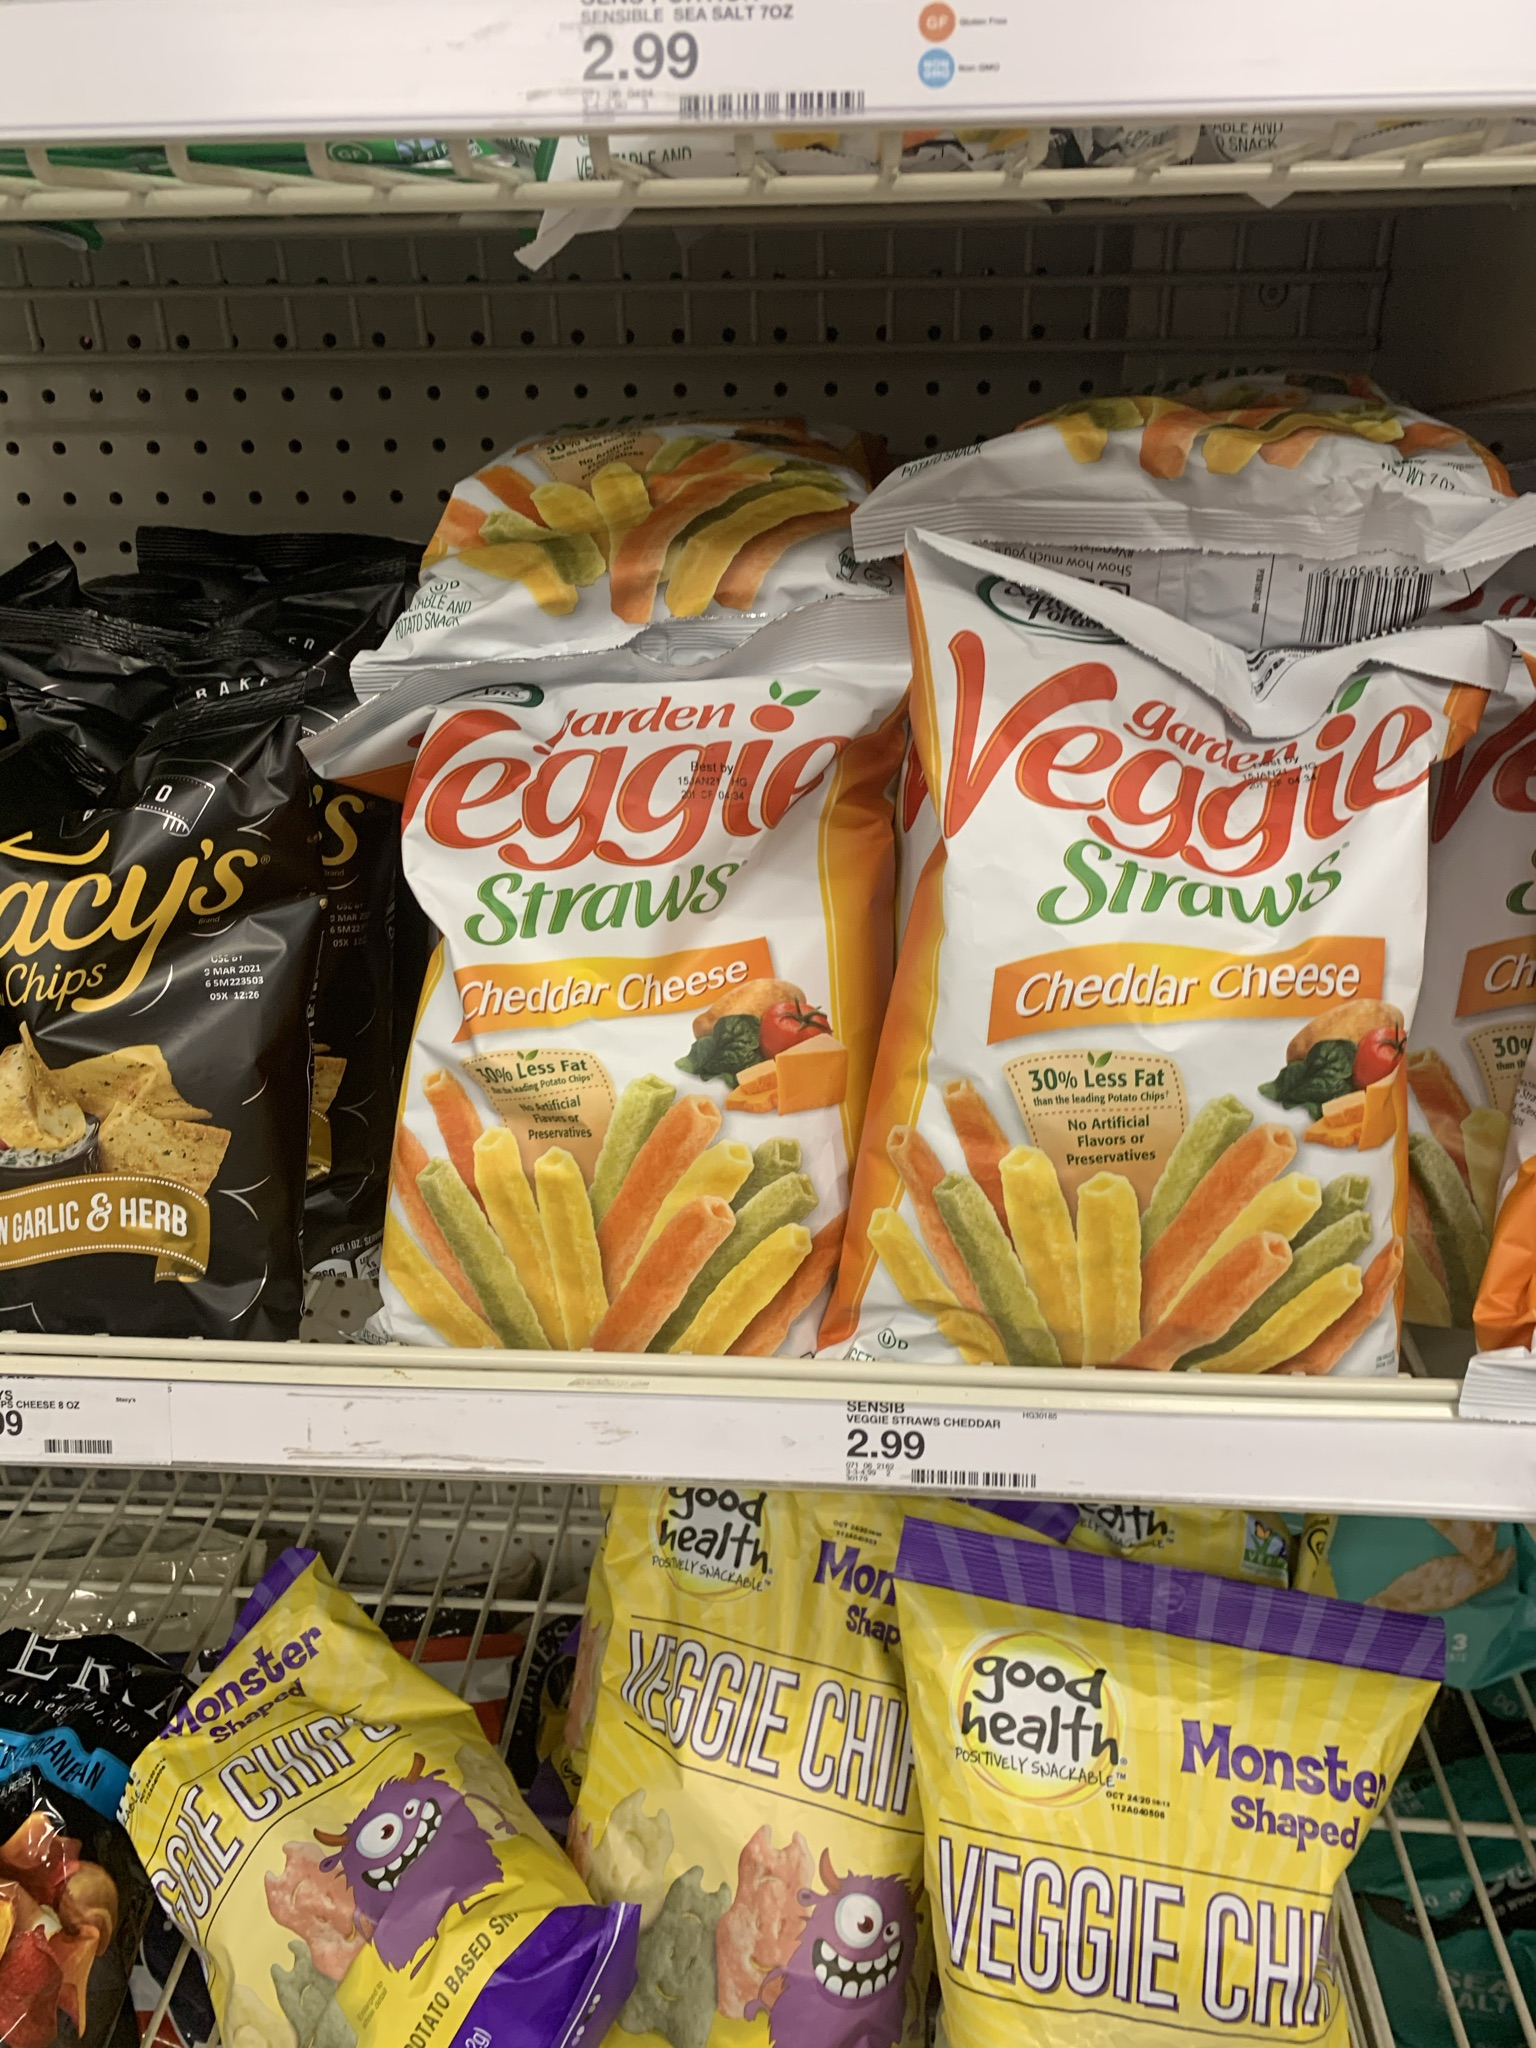Chips: (889, 518, 1413, 1395), (387, 648, 870, 1351)
